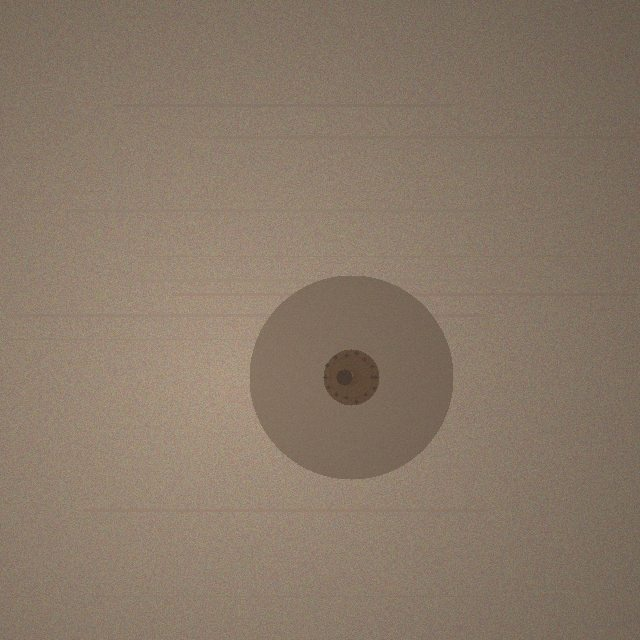cold_weld: (249, 275, 453, 479)
